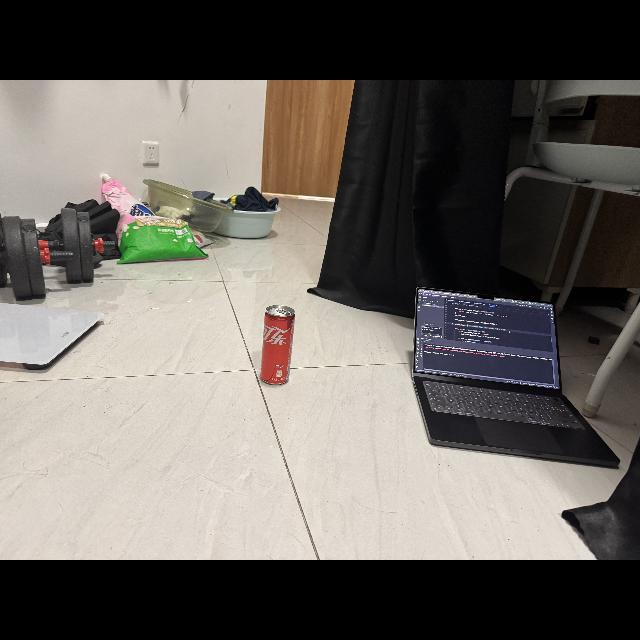Cola: (252, 301, 300, 389)
